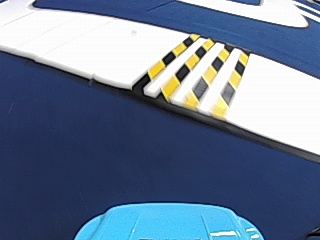bump: (134, 31, 248, 109)
